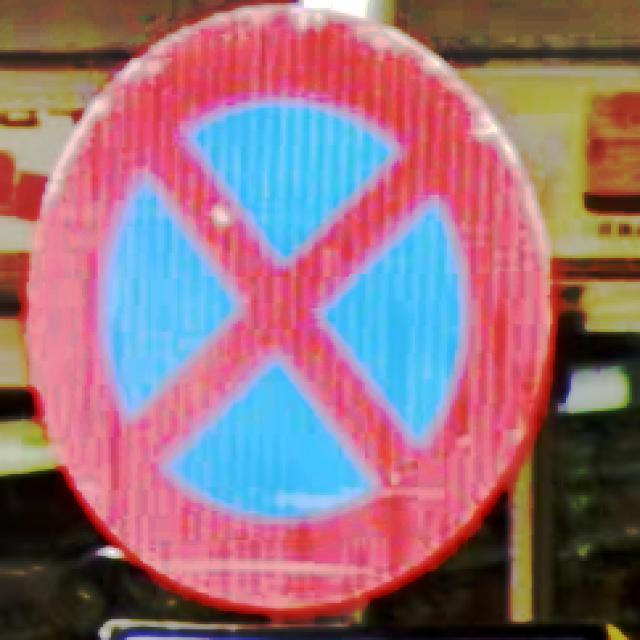nopark: (21, 3, 561, 624)
